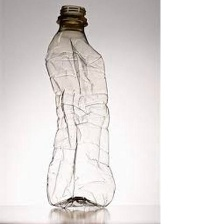bottle: (42, 2, 119, 217)
